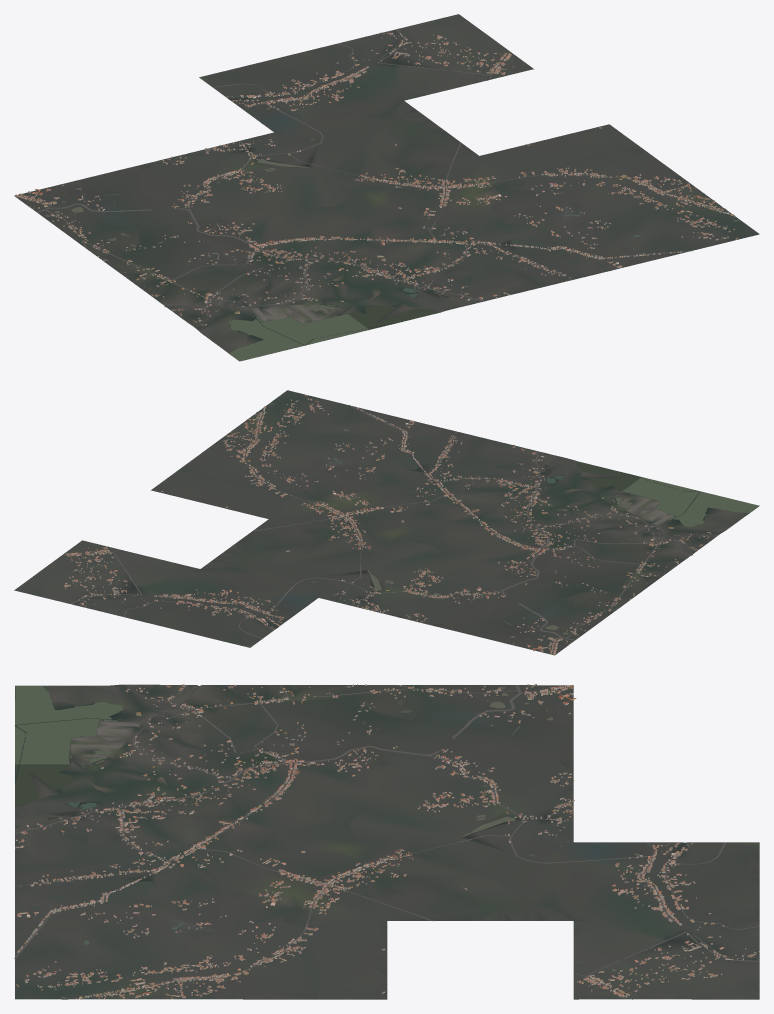
3 renders of one model, top to bottom at view 1: azimuth 30°, elevation 25°; view 2: azimuth 150°, elevation 25°; view 3: azimuth 270°, elevation 25°, orthographic. The views are drawn at different scales.
Parts seen in each view (by area): view 1: ground, buildings, water, roads; view 2: ground, buildings, water, roads; view 3: ground, buildings, water, roads.
Part boxes in pixels (box(x1,y1,x2,y2)): ground: box(14, 14, 759, 361); buildings: box(15, 32, 737, 325); water: box(45, 30, 739, 361); roads: box(19, 29, 722, 326); ground: box(14, 390, 754, 655); buildings: box(63, 395, 711, 654); water: box(73, 403, 759, 639); roads: box(71, 405, 716, 654); ground: box(15, 684, 759, 999); buildings: box(15, 684, 759, 999); water: box(15, 685, 759, 999); roads: box(14, 684, 759, 999).
Size of the model in its own units: 5603 by 29.82 by 5616.
